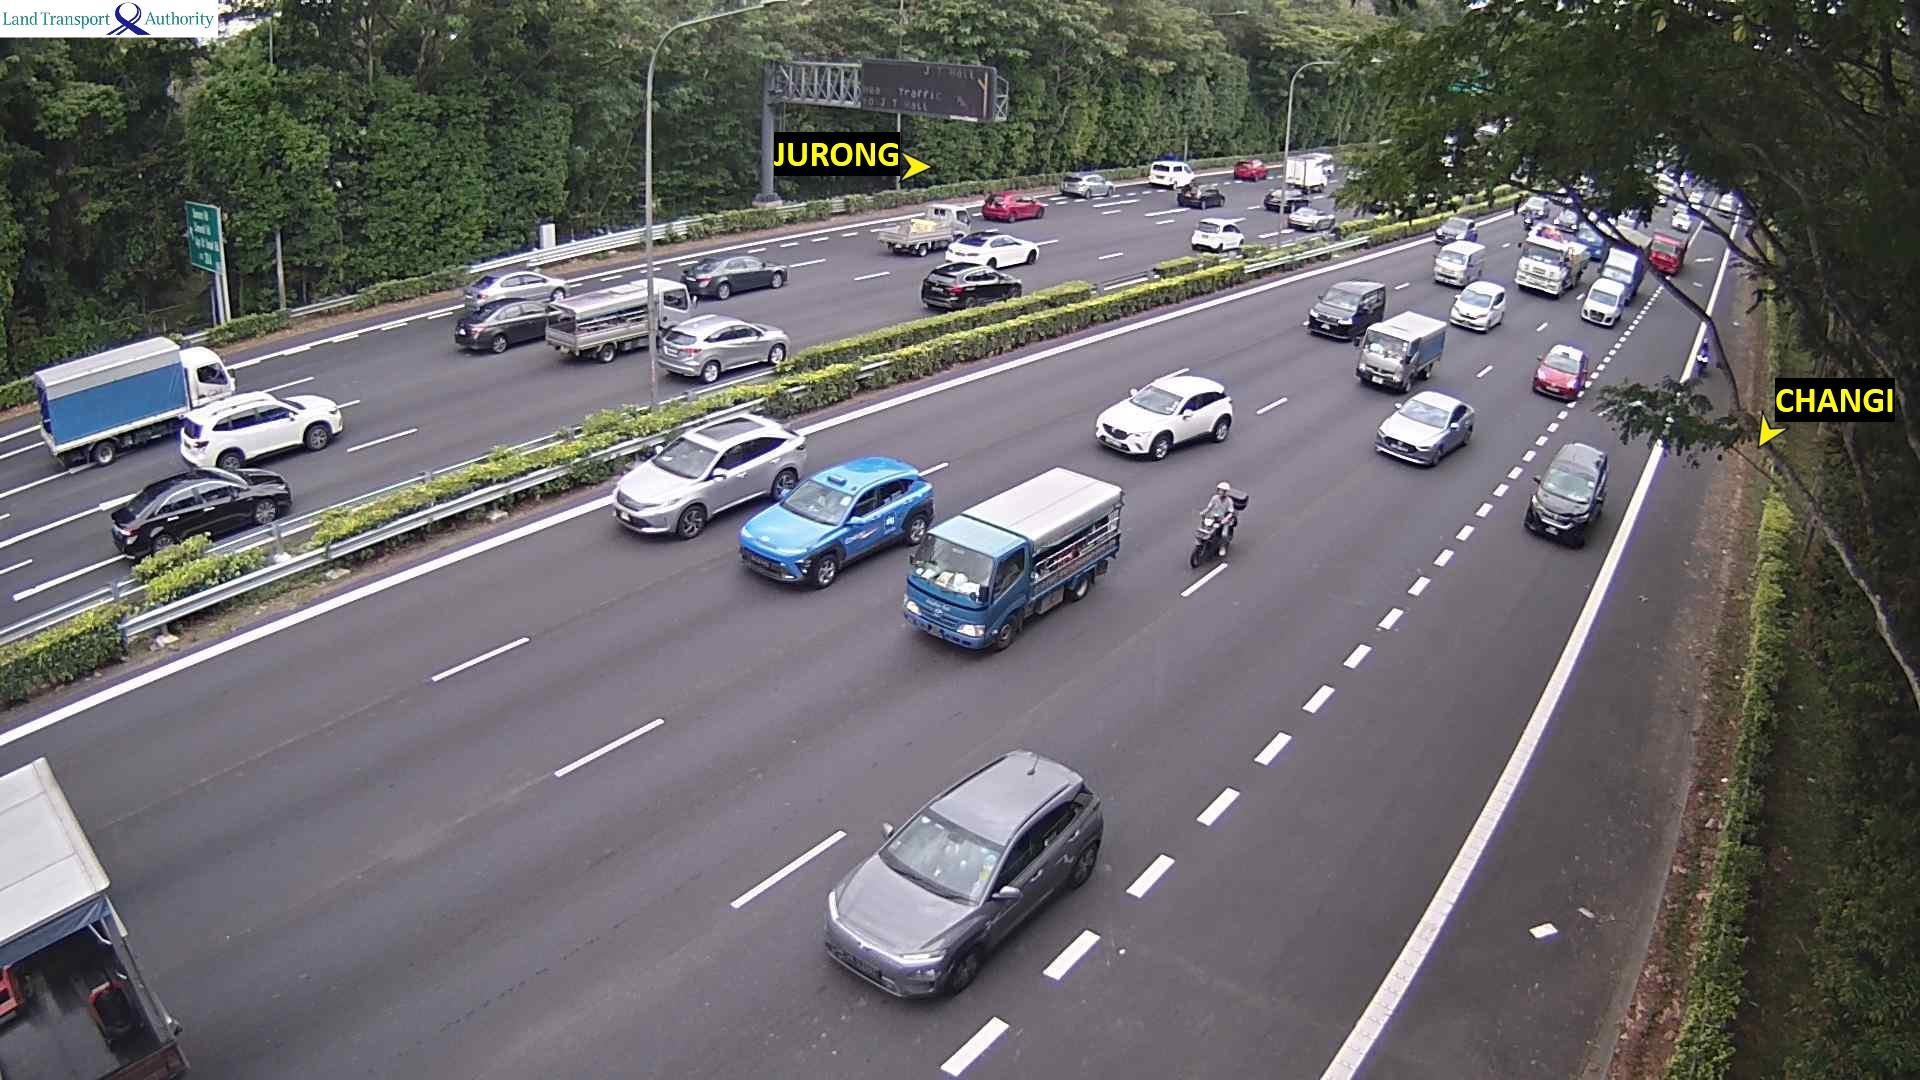incoming: (822, 803, 1029, 1011), (899, 520, 1026, 661), (735, 475, 868, 589), (607, 427, 736, 543), (1097, 377, 1199, 465), (1522, 463, 1607, 550), (1374, 396, 1461, 471), (1352, 324, 1422, 397), (1303, 281, 1371, 345), (1185, 501, 1240, 582), (1513, 236, 1573, 303), (1530, 349, 1590, 401), (1447, 285, 1503, 335), (1580, 286, 1626, 330), (1431, 247, 1476, 289), (1648, 233, 1687, 278), (1435, 216, 1473, 247), (1692, 343, 1713, 380), (1519, 195, 1549, 219), (1552, 208, 1581, 232), (1671, 210, 1695, 232), (1518, 210, 1536, 233)
